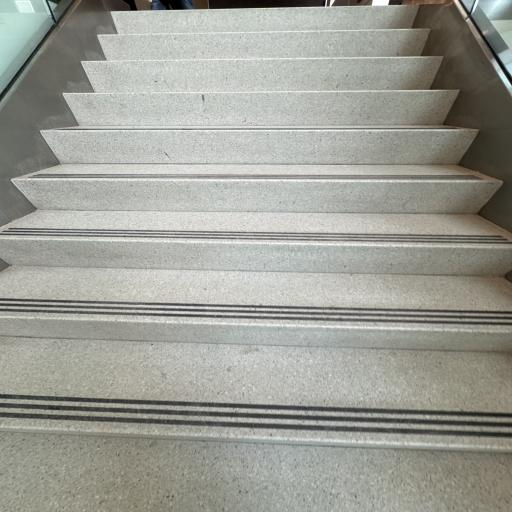Stairs: (0, 6, 512, 510), (0, 338, 512, 452), (0, 266, 512, 351), (0, 210, 512, 276), (13, 164, 501, 214)
